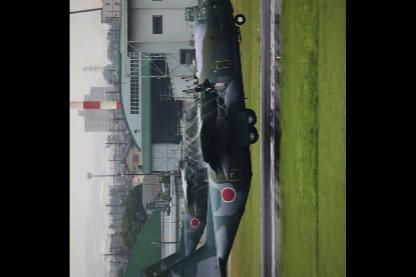Be200: (141, 0, 259, 276), (137, 98, 208, 276)
